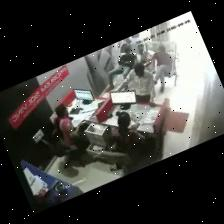person: (53, 105, 83, 166), (116, 63, 156, 107), (111, 112, 146, 159), (108, 44, 136, 89), (151, 45, 172, 92), (54, 105, 75, 149), (137, 45, 153, 72)
